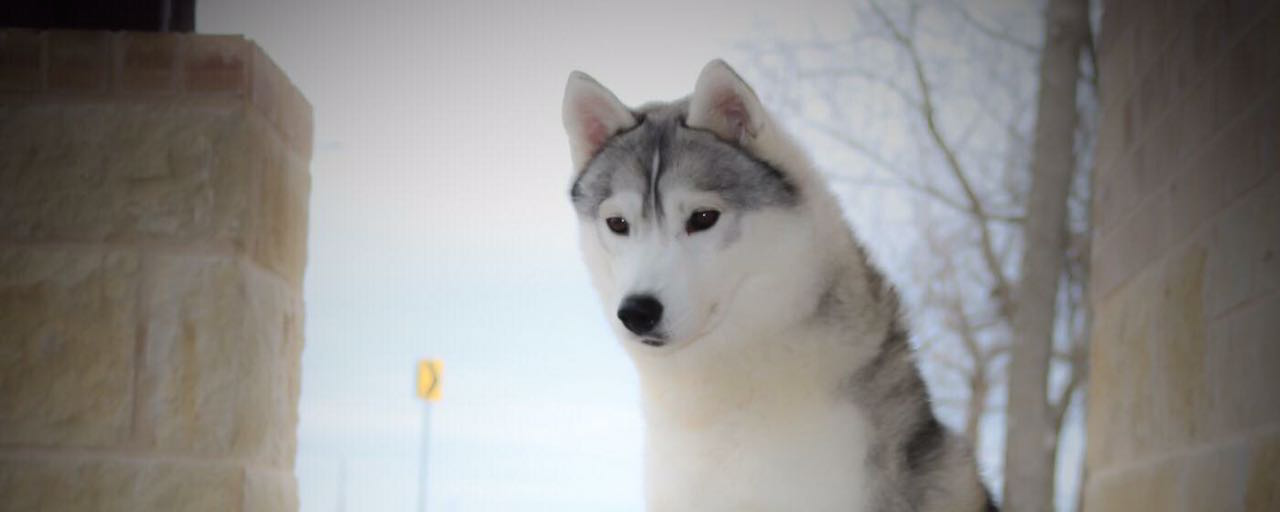husky: (526, 45, 1019, 512)
